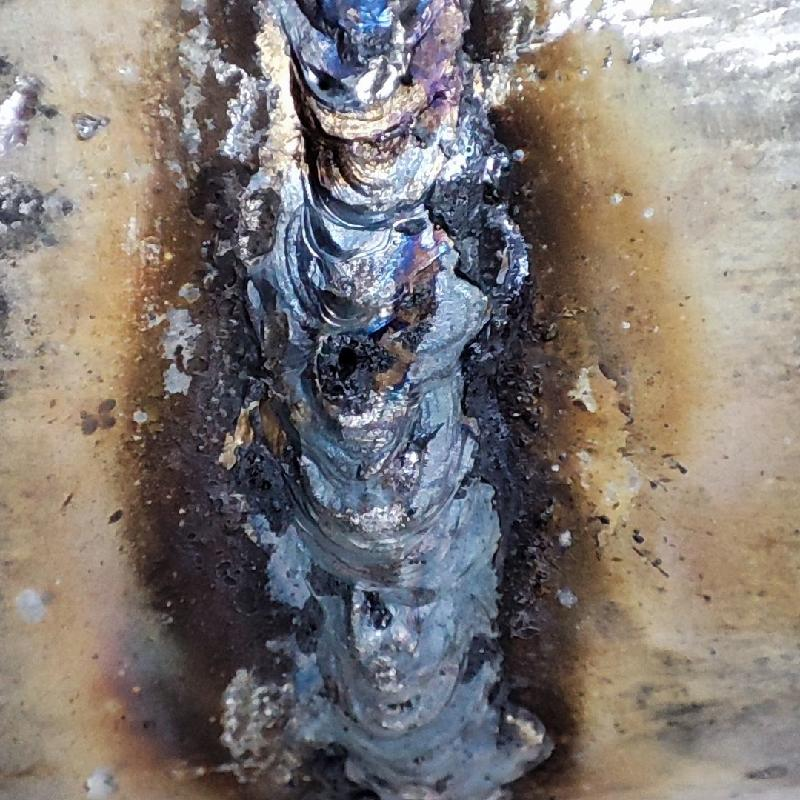Surface_pores: (318, 325, 388, 410), (386, 54, 423, 112), (305, 65, 347, 107)
